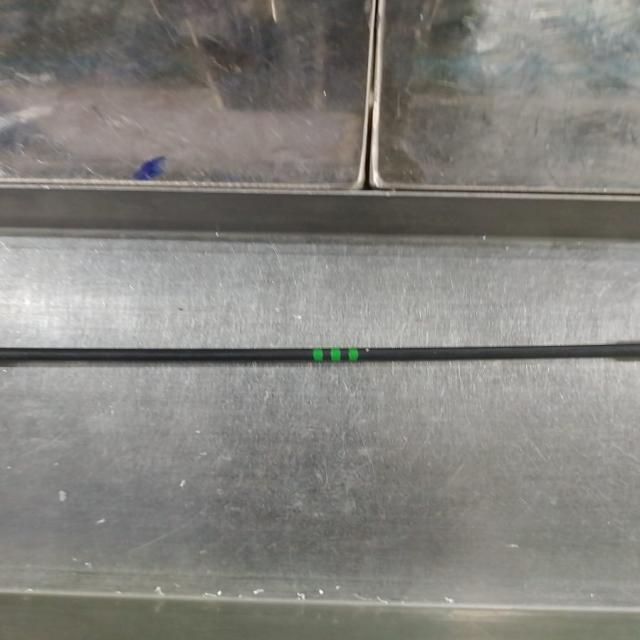green: (312, 348, 358, 361)
